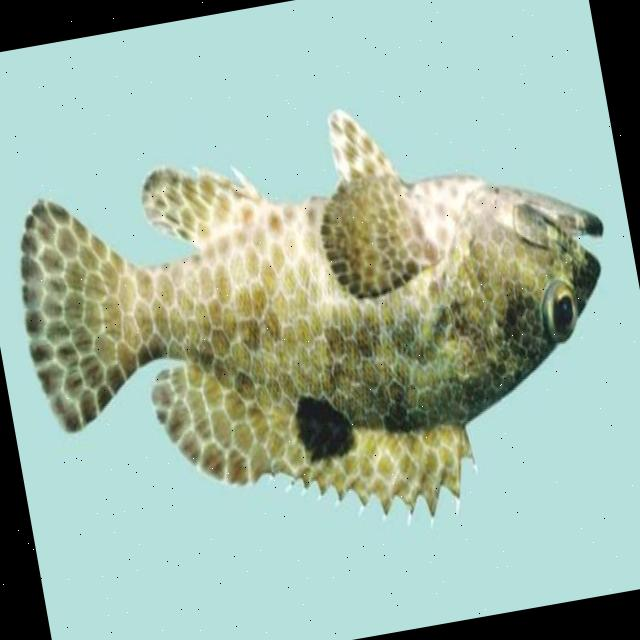ikan: (0, 67, 640, 590)
